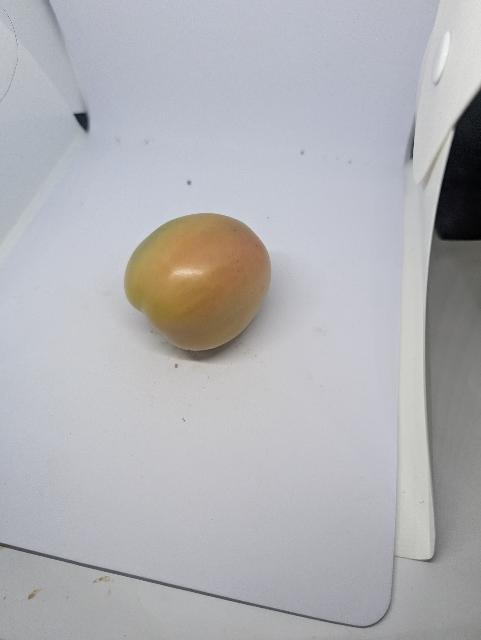breaker: (120, 209, 274, 354)
